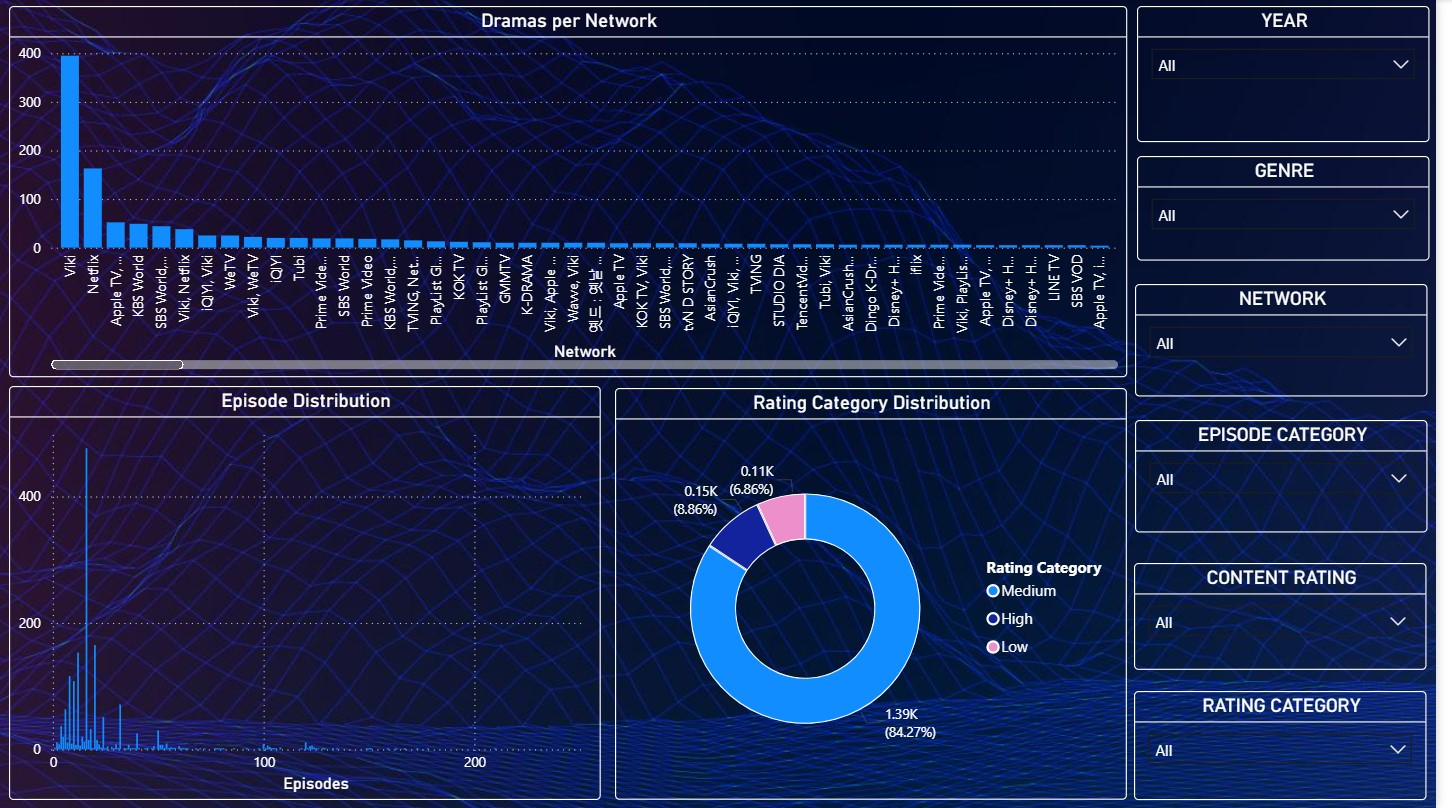

Layout of this report page (visuals, bound fields, positions):
{"tool":"powerbi","page":{"name":"Network Insights","canvas":[1280,720],"ordinal":2},"visuals":[{"type":"clusteredColumnChart","title":"Dramas per Network","fields":{"Category":["kdrama_clean.Network"],"Y":["CountNonNull(kdrama_clean.Drama_Name)"]},"box":[11.6,6.2,993.8,329.8],"z":0},{"type":"columnChart","title":"Episode Distribution","fields":{"Category":["kdrama_clean.Episodes"],"Y":["CountNonNull(kdrama_clean.Drama_Name)"]},"box":[11.6,344,526.2,368],"z":1},{"type":"donutChart","title":"Rating Category Distribution","fields":{"Category":["kdrama_clean.Rating Category"],"Y":["CountNonNull(kdrama_clean.Drama_Name)"]},"box":[550.2,345.8,455.1,366.2],"z":2},{"type":"slicer","title":"YEAR","fields":{"Values":["kdrama_clean.Year"]},"box":[1014.2,6.2,260.4,120.9],"z":4},{"type":"slicer","title":"GENRE","fields":{"Values":["kdrama_clean.Genre"]},"box":[1014.2,139.6,260.4,93.3],"z":5},{"type":"slicer","title":"NETWORK","fields":{"Values":["kdrama_clean.Network"]},"box":[1012.4,253.3,260.4,99.6],"z":6},{"type":"slicer","title":"EPISODE CATEGORY","fields":{"Values":["kdrama_clean.Episode Category"]},"box":[1012.4,374.2,260.4,99.6],"z":7},{"type":"slicer","title":"CONTENT RATING","fields":{"Values":["kdrama_clean.Content_Rating"]},"box":[1011.6,501.3,260.4,95.1],"z":8},{"type":"slicer","title":"RATING CATEGORY","fields":{"Values":["kdrama_clean.Rating Category"]},"box":[1011.6,615.1,260.4,96.9],"z":9}]}

Visuals, with their boxes in screenshot pixels (x1, y1, x2, y2), scaled from the page's 1280x720 canvas onto the 1452x808 screenshot:
"Dramas per Network" clusteredColumnChart: [13, 7, 1141, 377]
"Episode Distribution" columnChart: [13, 386, 610, 799]
"Rating Category Distribution" donutChart: [624, 388, 1140, 799]
"YEAR" slicer: [1150, 7, 1446, 143]
"GENRE" slicer: [1150, 157, 1446, 261]
"NETWORK" slicer: [1148, 284, 1444, 396]
"EPISODE CATEGORY" slicer: [1148, 420, 1444, 532]
"CONTENT RATING" slicer: [1148, 563, 1443, 669]
"RATING CATEGORY" slicer: [1148, 690, 1443, 799]
